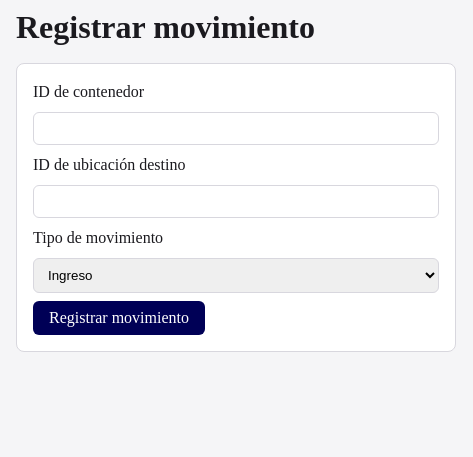
Scenario: MovimientosPage › shows the backend error when the slot is already occupied
Type "c1" into the field labelled "ID de contenedor" at (236, 128), box [33,112,439,145]
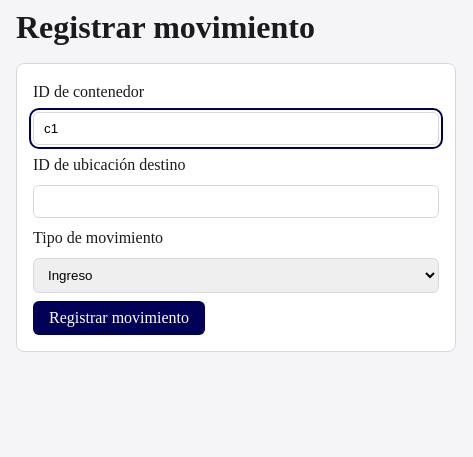
Type "u1" into the field labelled "ID de ubicación destino" at (236, 202), box [33,185,439,218]
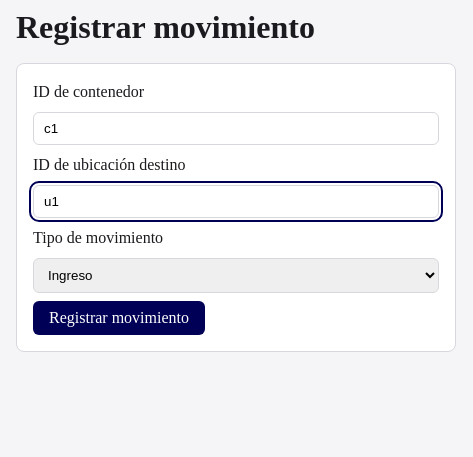
Click the button "Registrar movimiento" at (119, 318), box [33,301,205,335]
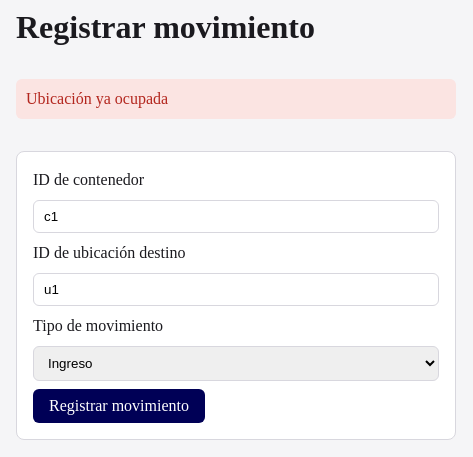
Expected: the message reads "Ubicación ya ocupada", [26,90,168,107]
